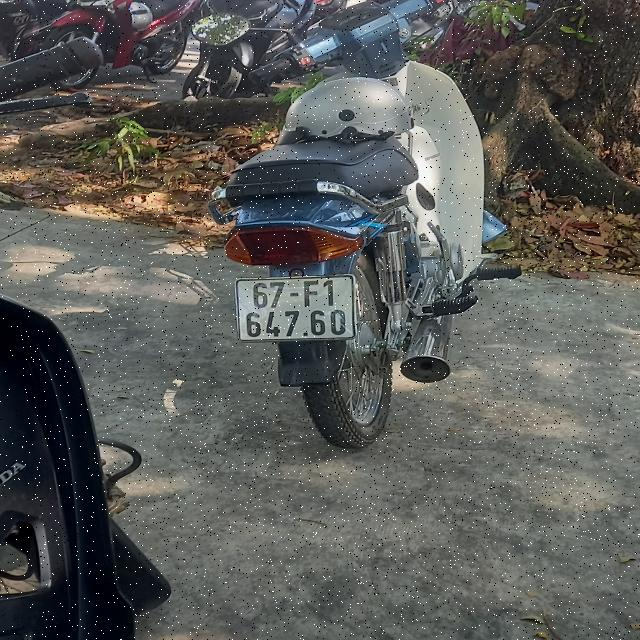0: (330, 309, 351, 337)
1: (320, 280, 339, 306)
4: (267, 311, 281, 339)
6: (252, 282, 271, 310), (309, 310, 327, 336), (245, 312, 262, 338)
7: (284, 308, 299, 338), (269, 281, 285, 309)
F: (302, 280, 322, 310)
